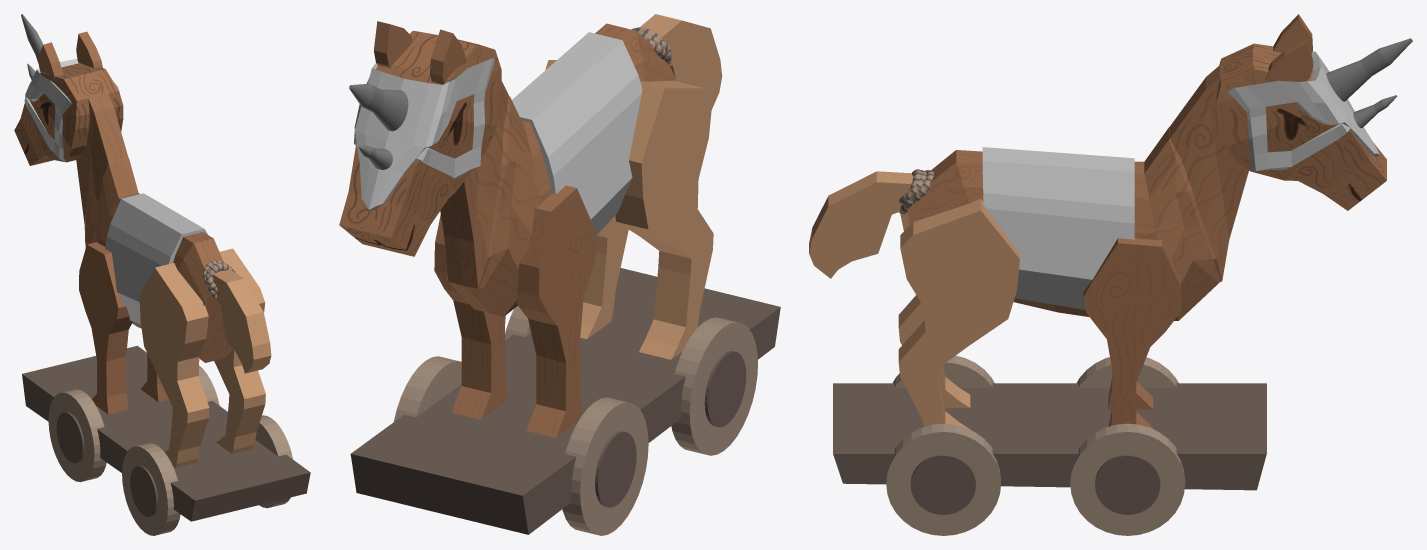
File: Playtest_Horse.fbx
3 renders of one model, left to right at view 1: azimuth 30°, elevation 25°; view 2: azimuth 150°, elevation 25°; view 3: azimuth 270°, elevation 25°, orthographic. The views are drawn at different scales.
Visible parts, largest first — view 1: Cube.006, Cube.014, Cube, Cube.009, Cube.013, Cube.001, Cube.003, Cube.004, Cylinder.005, Cylinder.004, Cube.008, Cylinder.009 (+7 smaller); view 2: Cube.006, Cube.014, Cube, Cube.009, Cube.013, Cube.001, Cube.008, Cylinder.005, Cylinder.004, Cube.002, Cube.004, Cube.003 (+8 smaller); view 3: Cube.006, Cube, Cube.009, Cube.003, Cube.001, Cube.002, Cylinder, Cylinder.001, Cube.008, Cube.004, Cylinder.006, Cylinder.007 (+6 smaller).
Part boxes in pixels (bbox=[...]): Cube.006: bbox=[22, 345, 310, 521]; Cube.014: bbox=[139, 263, 209, 467]; Cube: bbox=[76, 93, 232, 362]; Cube.009: bbox=[105, 193, 207, 324]; Cube.013: bbox=[79, 242, 132, 414]; Cube.001: bbox=[14, 63, 123, 165]; Cube.003: bbox=[214, 248, 265, 453]; Cube.004: bbox=[212, 270, 271, 373]; Cylinder.005: bbox=[122, 443, 180, 535]; Cylinder.004: bbox=[48, 389, 106, 481]; Cube.008: bbox=[24, 59, 119, 161]; Cylinder.009: bbox=[56, 412, 84, 463]; Cube.006: bbox=[350, 268, 780, 534]; Cube.014: bbox=[615, 80, 713, 359]; Cube: bbox=[440, 23, 675, 316]; Cube.009: bbox=[512, 32, 642, 234]; Cube.013: bbox=[516, 185, 597, 437]; Cube.001: bbox=[339, 30, 501, 256]; Cube.008: bbox=[354, 58, 495, 210]; Cylinder.005: bbox=[671, 317, 757, 455]; Cylinder.004: bbox=[562, 397, 648, 535]; Cube.002: bbox=[434, 214, 507, 419]; Cube.004: bbox=[639, 14, 722, 109]; Cube.003: bbox=[545, 60, 628, 339]; Cube.006: bbox=[833, 383, 1266, 490]; Cube: bbox=[907, 65, 1248, 320]; Cube.009: bbox=[982, 147, 1134, 309]; Cube.003: bbox=[898, 198, 1019, 429]; Cube.001: bbox=[1216, 43, 1386, 210]; Cube.002: bbox=[1083, 238, 1181, 428]; Cylinder: bbox=[886, 423, 1000, 535]; Cylinder.001: bbox=[1070, 423, 1185, 535]; Cube.008: bbox=[1227, 51, 1379, 171]; Cube.004: bbox=[809, 171, 913, 278]; Cylinder.006: bbox=[1095, 454, 1160, 514]; Cylinder.007: bbox=[910, 454, 975, 514].
Size of the model in its own units: 227 by 620 by 723.
